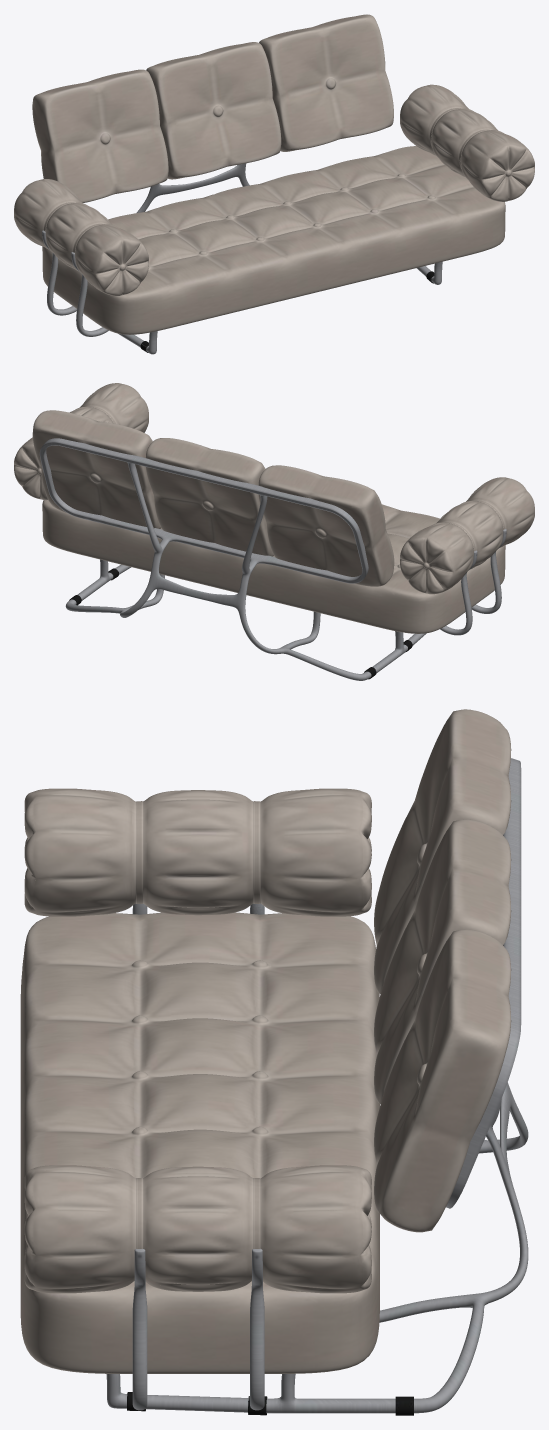
Rendered from SOBA_8.glb.
The picture shows the model from 3 angles, top to bottom: view 1: azimuth 30°, elevation 25°; view 2: azimuth 150°, elevation 25°; view 3: azimuth 270°, elevation 25°; orthographic projection. The views are drawn at different scales.
Parts seen in each view (by area): view 1: defaultMaterial.003; view 2: defaultMaterial.003; view 3: defaultMaterial.003.
Boxes of the visible parts, x1,y1,x2,y2 form: defaultMaterial.003: [14, 14, 534, 354]; defaultMaterial.003: [14, 383, 534, 680]; defaultMaterial.003: [20, 709, 528, 1415].
Bounding box in the file's own units: 1.81 × 0.7958 × 0.9005.
Materials: 2 (2 with a texture image).
